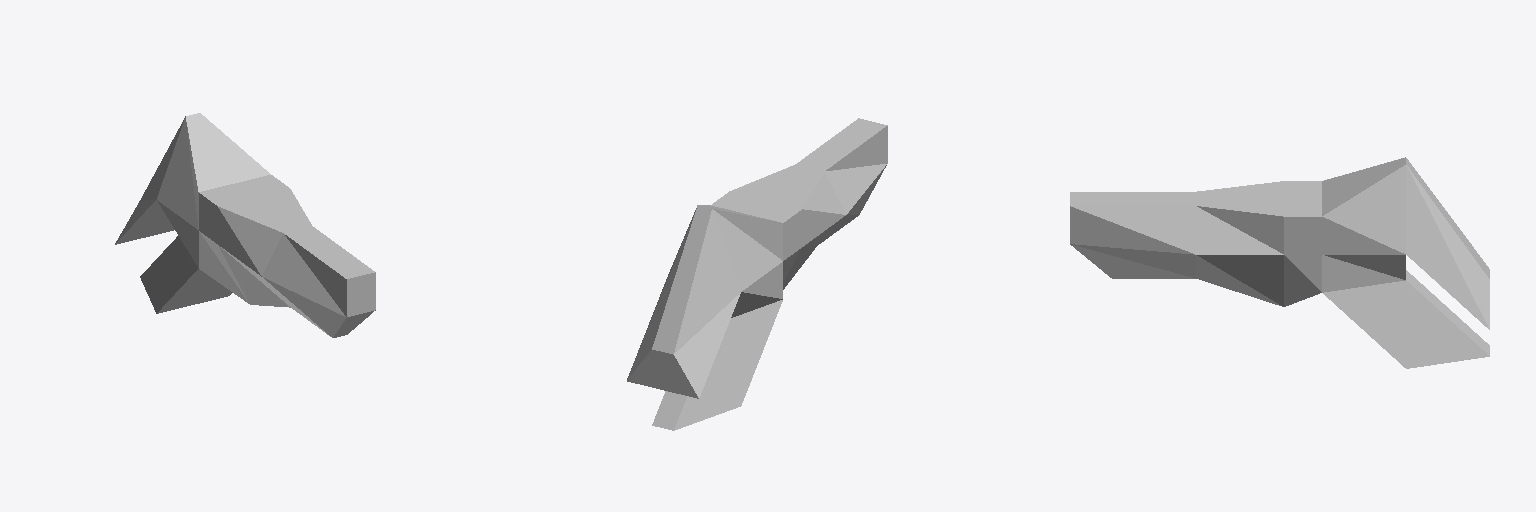
The model's file is pistol.obj.
The picture shows the model from 3 angles: view 1: azimuth 30°, elevation 25°; view 2: azimuth 150°, elevation 25°; view 3: azimuth 270°, elevation 25°; orthographic projection.
Parts seen in each view (by area): view 1: Cube; view 2: Cube; view 3: Cube.
Boxes of the visible parts, x1=… form: Cube: x1=115, y1=113, x2=375, y2=337; Cube: x1=627, y1=118, x2=887, y2=430; Cube: x1=1070, y1=157, x2=1489, y2=368.
Bounding box in the file's own units: 0.2 × 0.5 × 1.